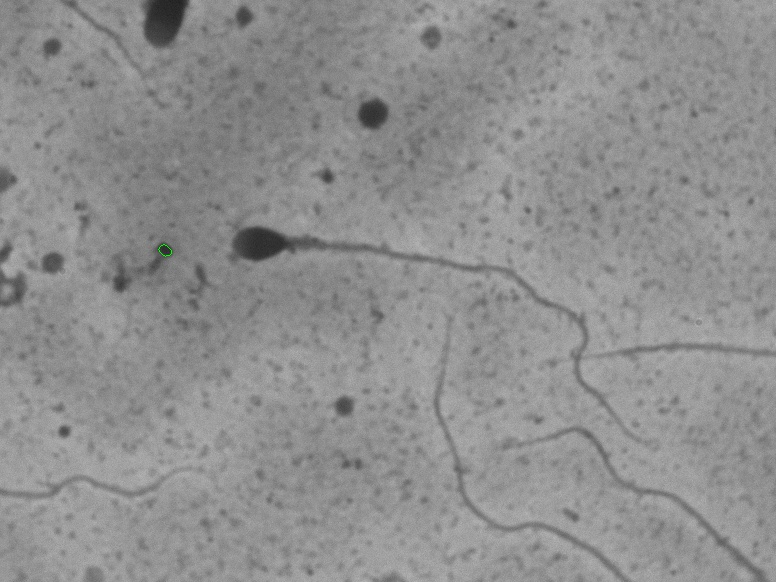Normal: (215, 201, 660, 445)
